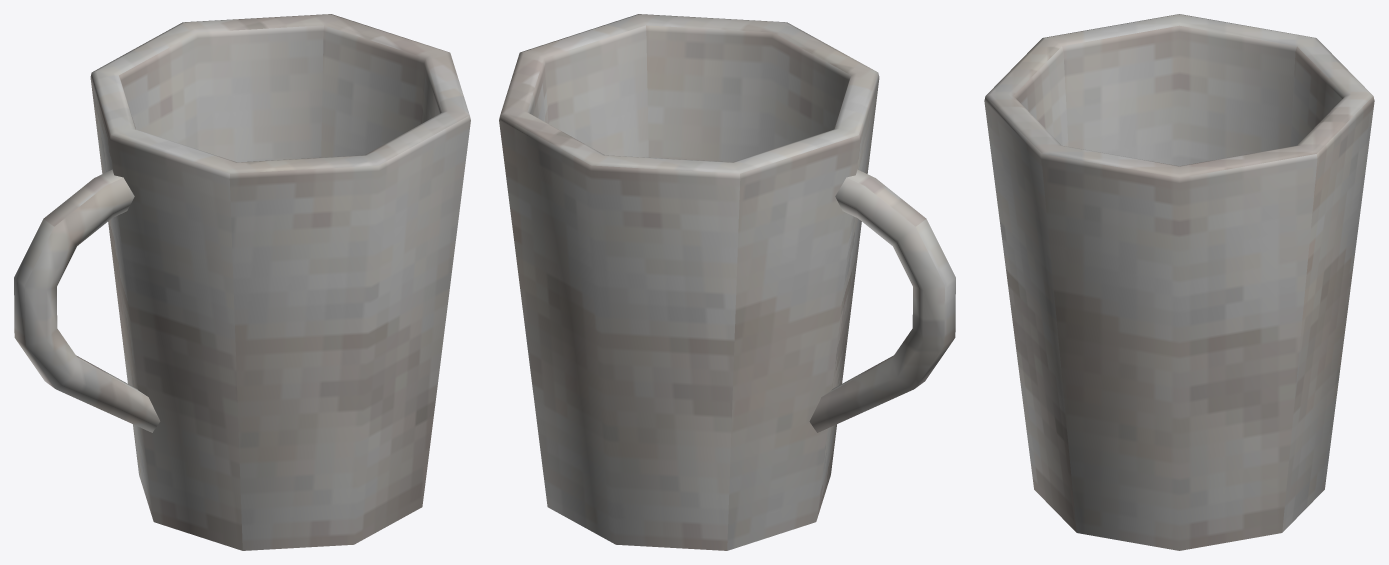
The model's file is _Cup_1.FBX.
3 views of the same model, side by side, from view 1: azimuth 30°, elevation 25°; view 2: azimuth 150°, elevation 25°; view 3: azimuth 270°, elevation 25° (orthographic).
Visible parts, largest first — view 1: _Cup_1; view 2: _Cup_1; view 3: _Cup_1.
Boxes of the visible parts, bbox=[...] form: _Cup_1: bbox=[14, 14, 470, 550]; _Cup_1: bbox=[499, 14, 955, 550]; _Cup_1: bbox=[984, 14, 1374, 550].
Bounding box in the file's own units: 16.99 × 15 × 13.43.
Materials: 1 (1 with a texture image).
